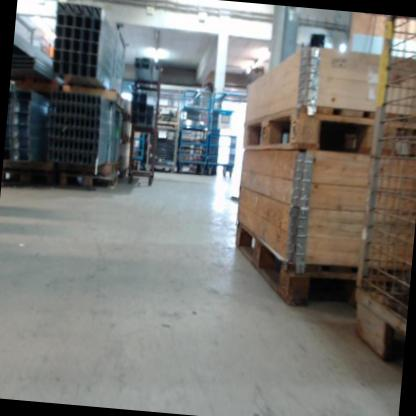pallet: (229, 219, 374, 314), (242, 94, 416, 168), (1, 166, 57, 193), (57, 169, 118, 193), (120, 165, 131, 180), (122, 134, 133, 144), (124, 112, 134, 122)
stillage: (338, 14, 416, 371), (148, 127, 180, 173), (154, 84, 183, 129)
